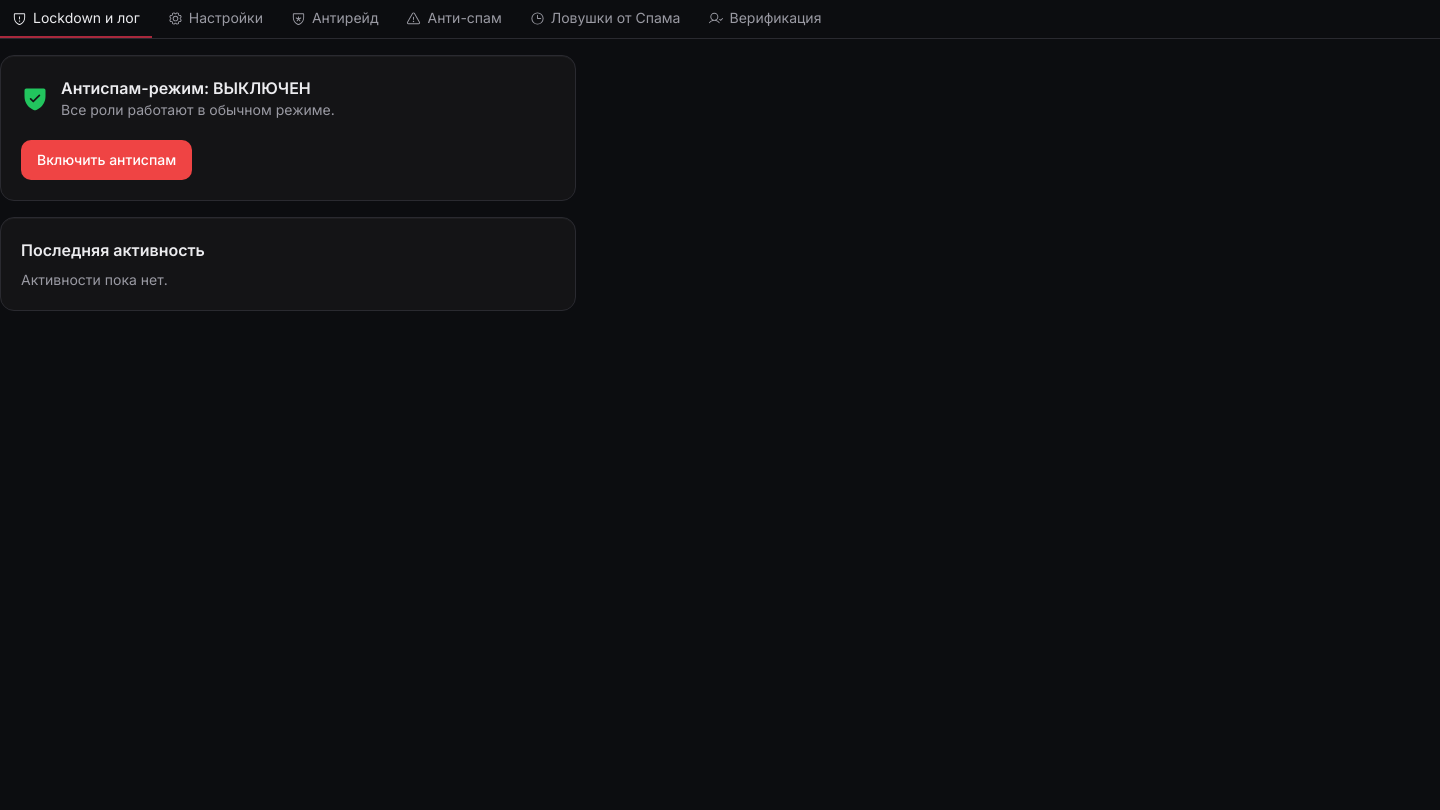
Scenario: LockdownPage › activates after confirmation and refreshes status
Click the button "Включить антиспам": (107, 160) [21,140,192,180]
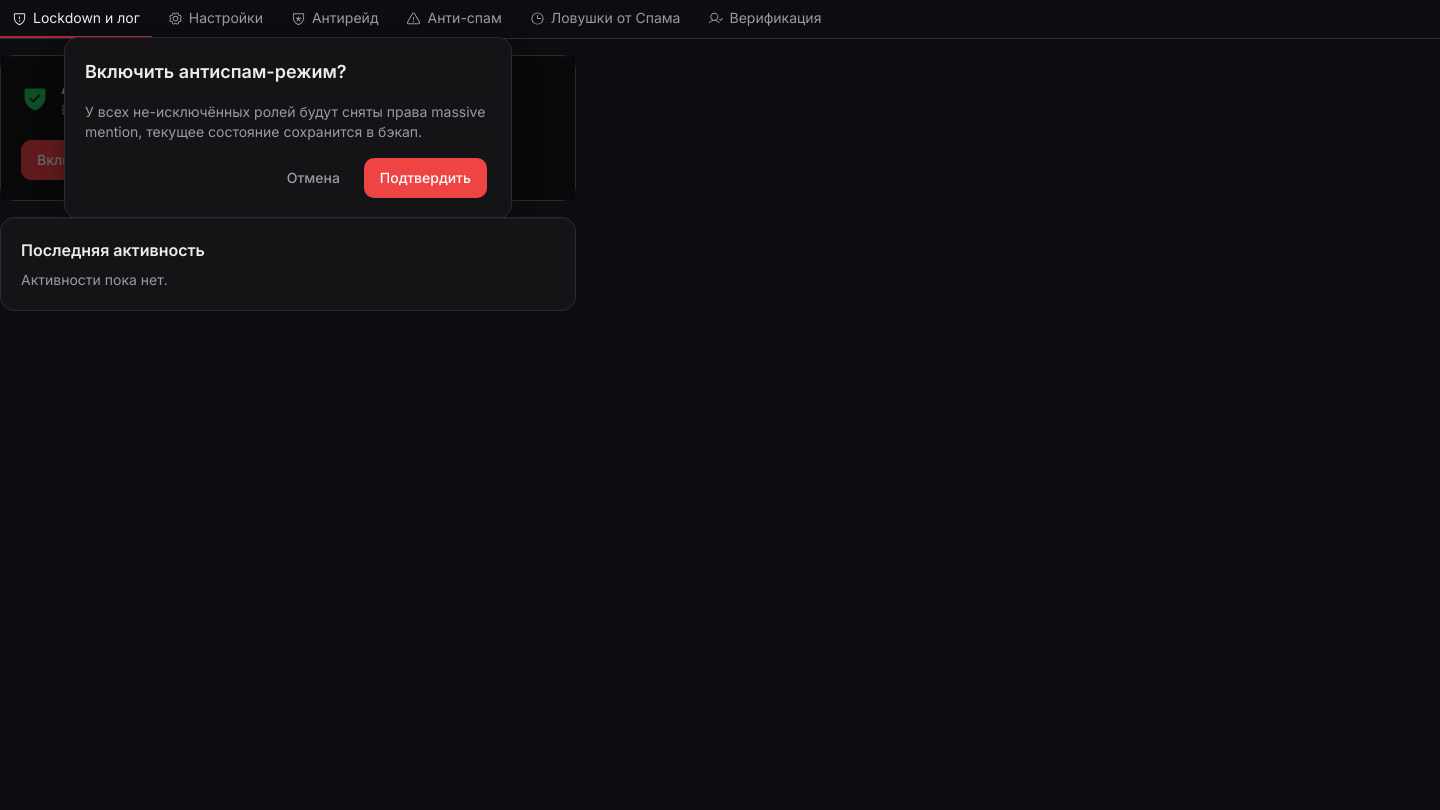
Click the button "Подтвердить": (425, 178) [364,158,487,198]
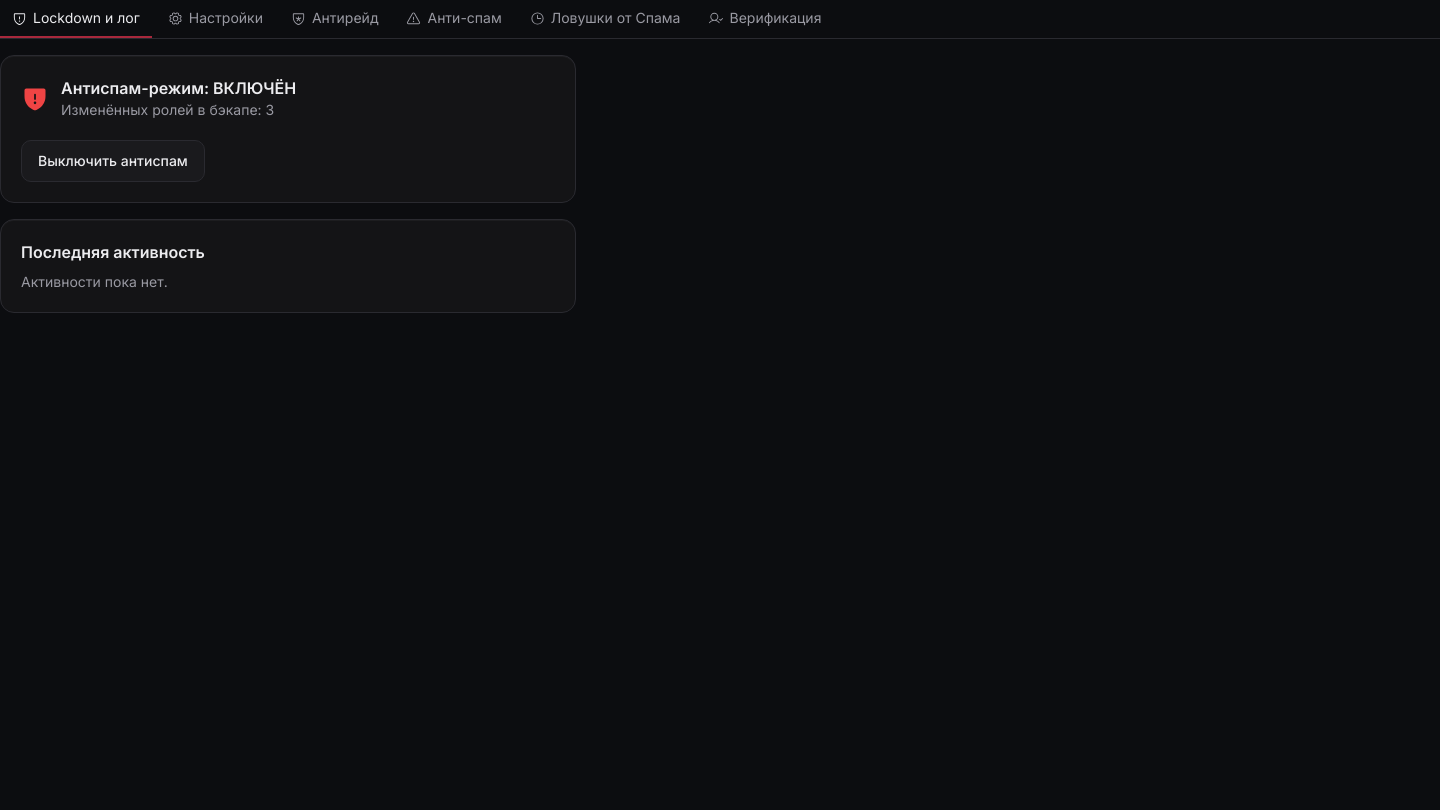
expect the heading "Антиспам-режим: ВКЛЮЧЁН" is shown: met, box [61,76,296,100]
